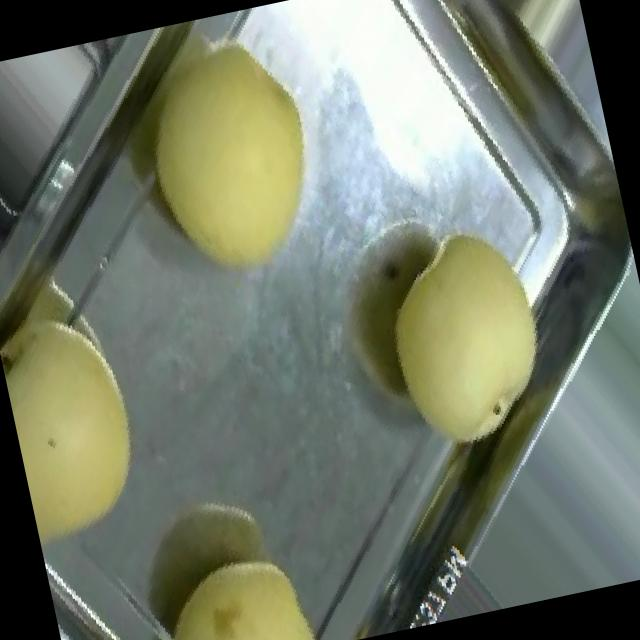Fruit: (83, 0, 370, 315), (340, 188, 599, 484), (0, 292, 179, 568), (112, 527, 349, 640)
